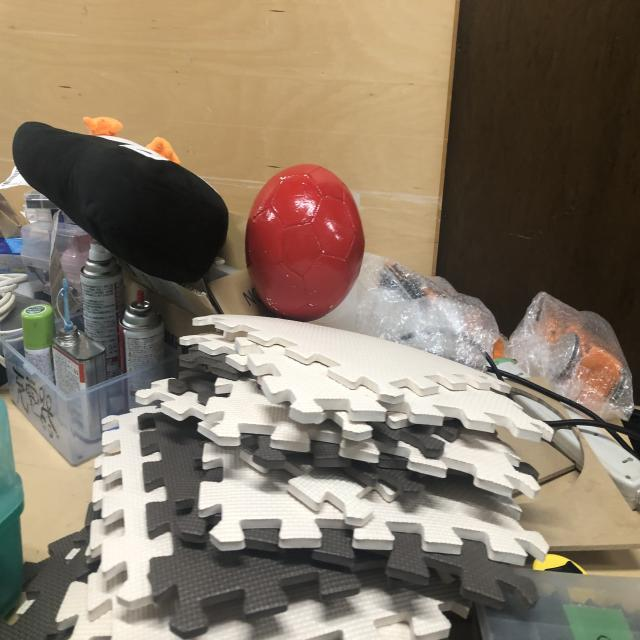red_ball: (246, 165, 363, 318)
